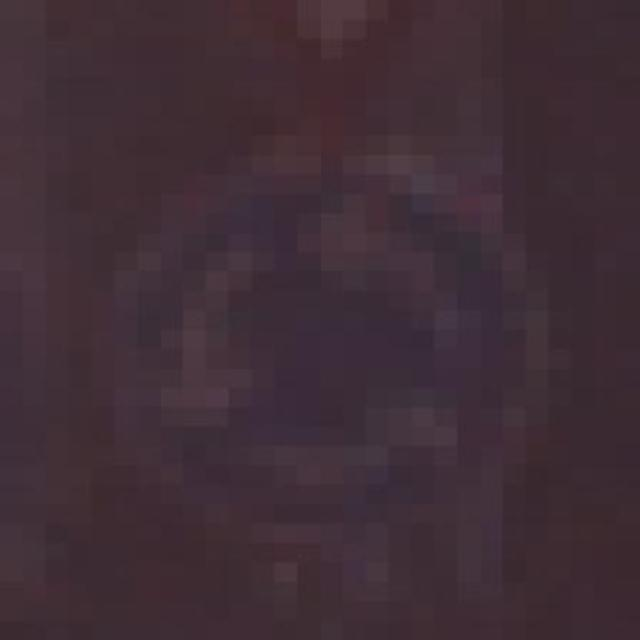Round-About: (114, 97, 572, 563)
